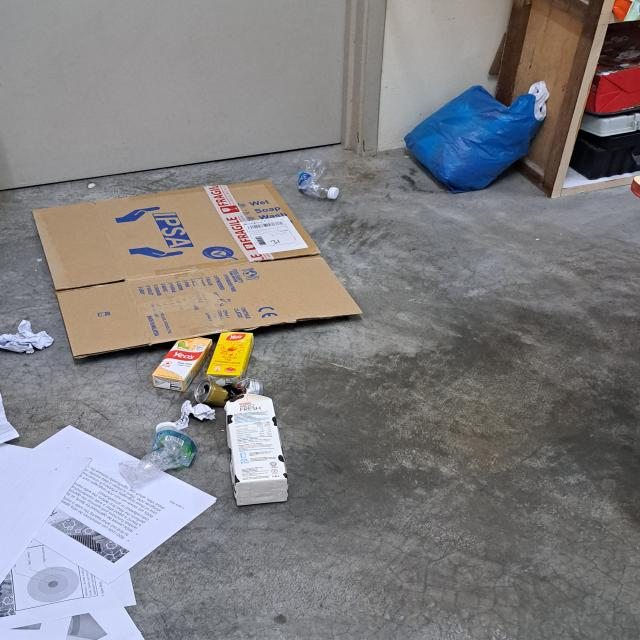can: (193, 378, 264, 407)
cardboard: (36, 180, 361, 356)
drink carton: (227, 394, 290, 504), (154, 336, 212, 391), (206, 331, 253, 378)
paper: (0, 423, 215, 640), (0, 319, 54, 354), (176, 400, 216, 430), (0, 389, 19, 444)
plastic bag: (408, 89, 537, 191)
plastic bottle: (120, 420, 197, 486), (298, 158, 342, 200)
plastic bottle cap: (156, 421, 179, 434), (328, 185, 340, 200)
pop tab: (195, 385, 208, 399)
